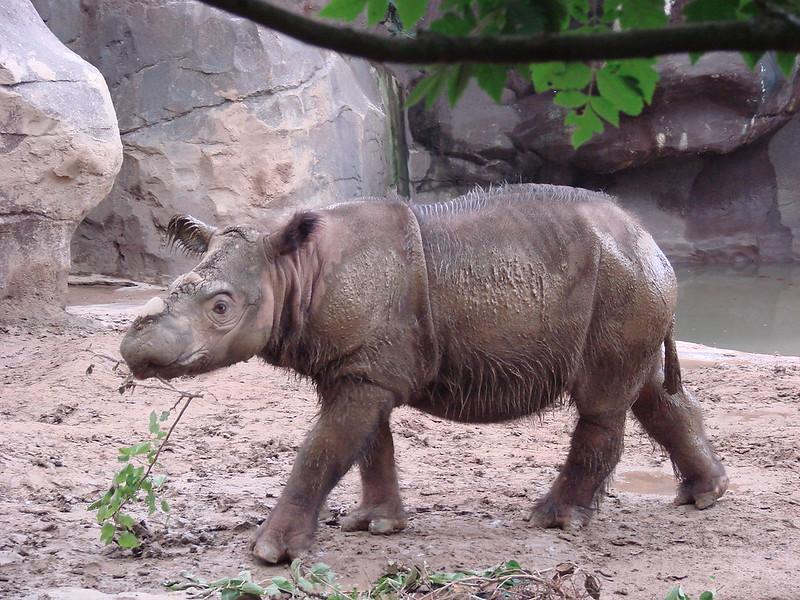rhinoceros: (98, 166, 743, 570)
